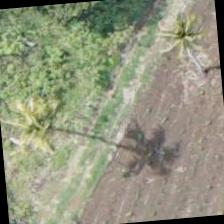Kelapa_Sawit: (0, 84, 84, 181), (132, 0, 223, 88)
